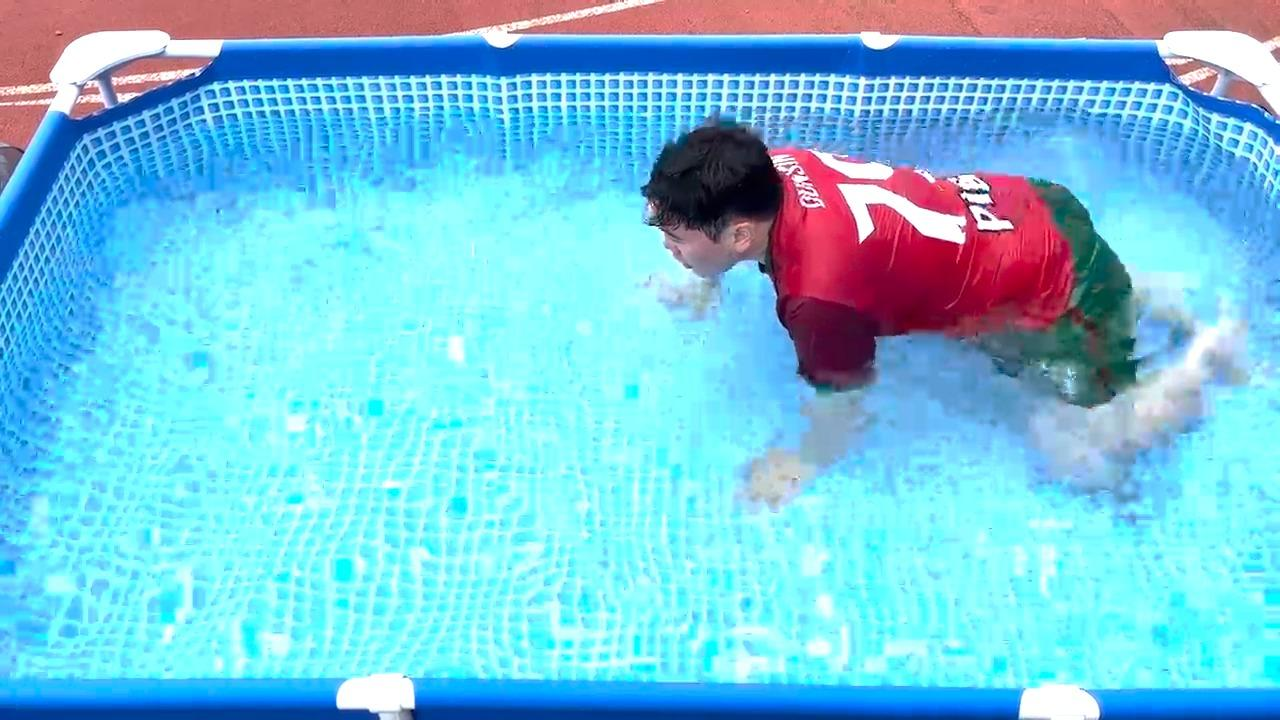Drowning: (547, 89, 1280, 542)
